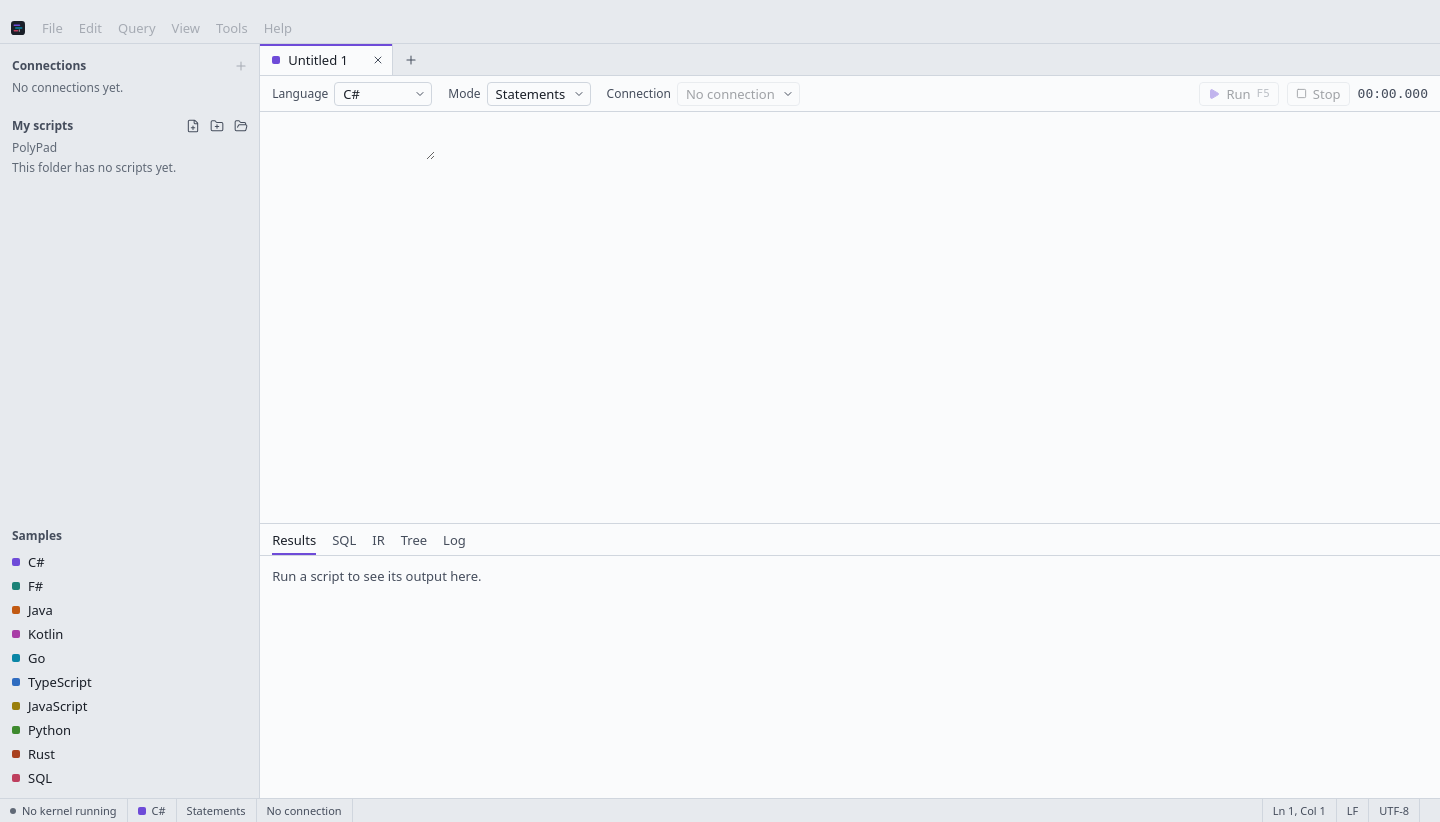
Test: starting up › shows the version reported by the Rust side
Clear the text box named "Editor text" at (348, 140), box [260,120,435,160]
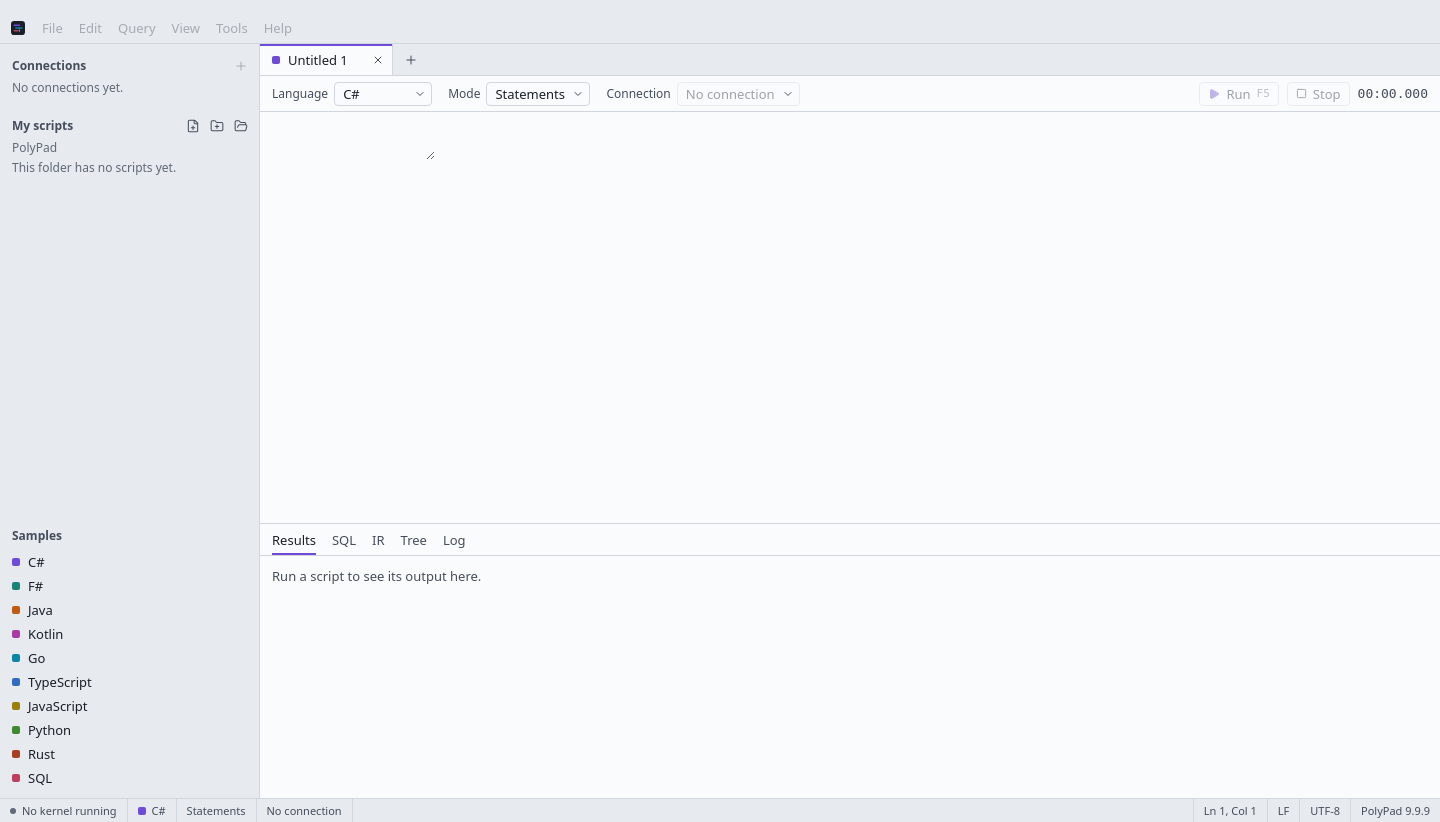
Expected: the element named "Open scripts" is shown, [260,44,393,75]
Now the text "PolyPad 9.9.9" is shown, box [1350,799,1439,821]
